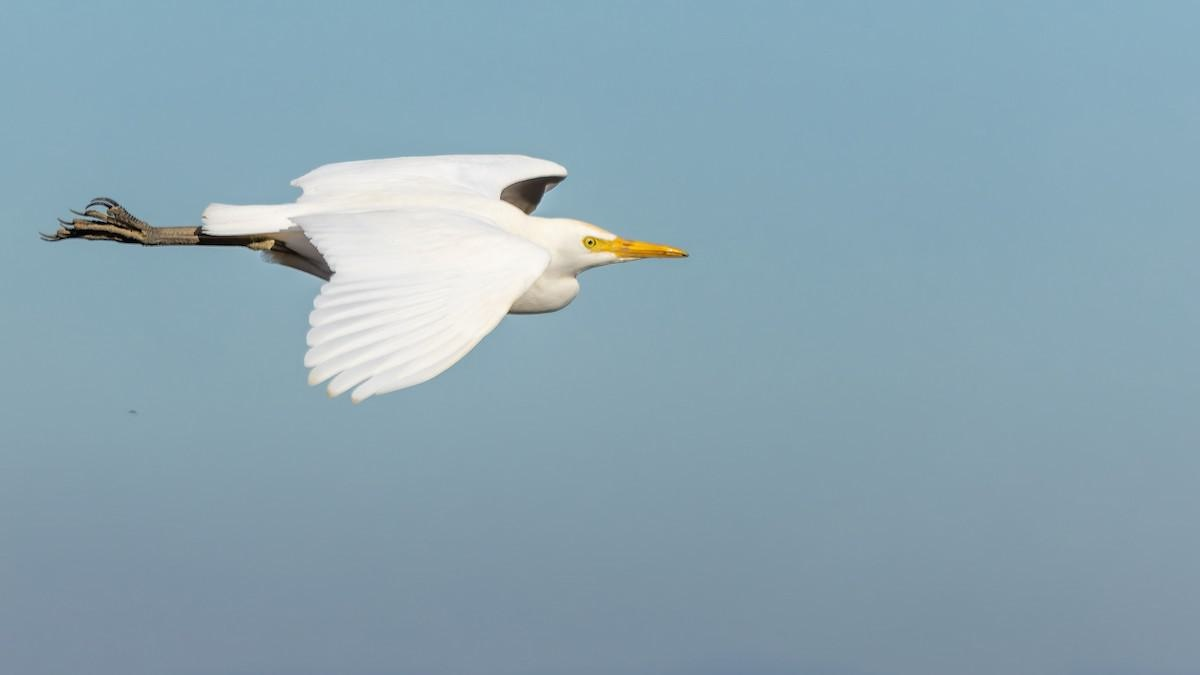egret: (42, 121, 707, 406)
